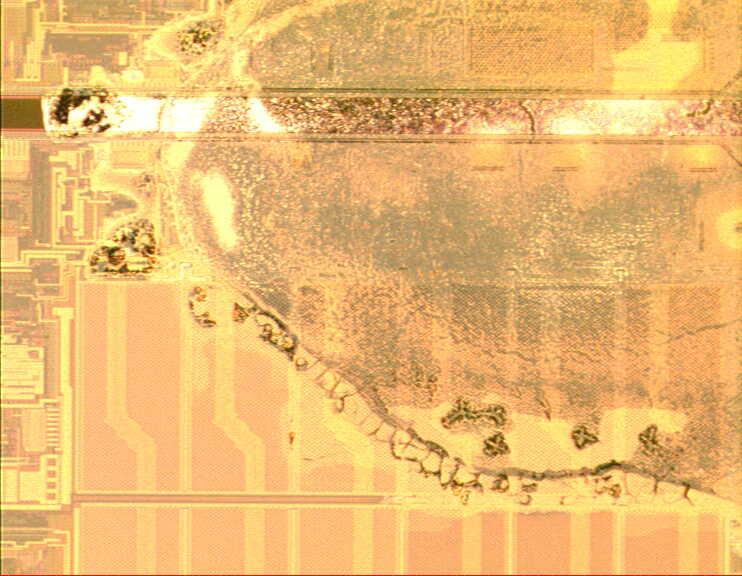BLOCK ETCH: (28, 1, 742, 537)
